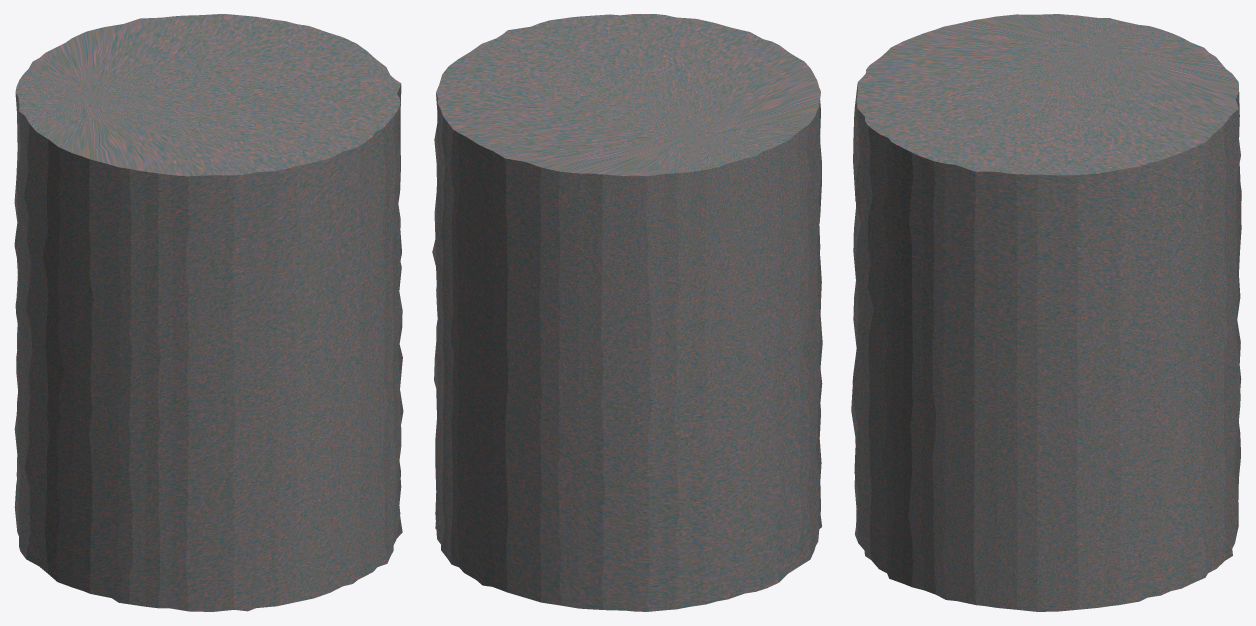
The model's file is barrel_42.dae.
The picture shows the model from 3 angles, left to right: view 1: azimuth 30°, elevation 25°; view 2: azimuth 150°, elevation 25°; view 3: azimuth 270°, elevation 25°; orthographic projection.
Parts seen in each view (by area): view 1: Cylinder; view 2: Cylinder; view 3: Cylinder.
Part boxes in pixels (left/top/right/bottom): Cylinder: left=14, top=14, right=403, bottom=611; Cylinder: left=432, top=14, right=822, bottom=611; Cylinder: left=851, top=14, right=1241, bottom=611.
Size of the model in its own units: 0.819 by 0.8141 by 1.
1 material, 1 textured.
